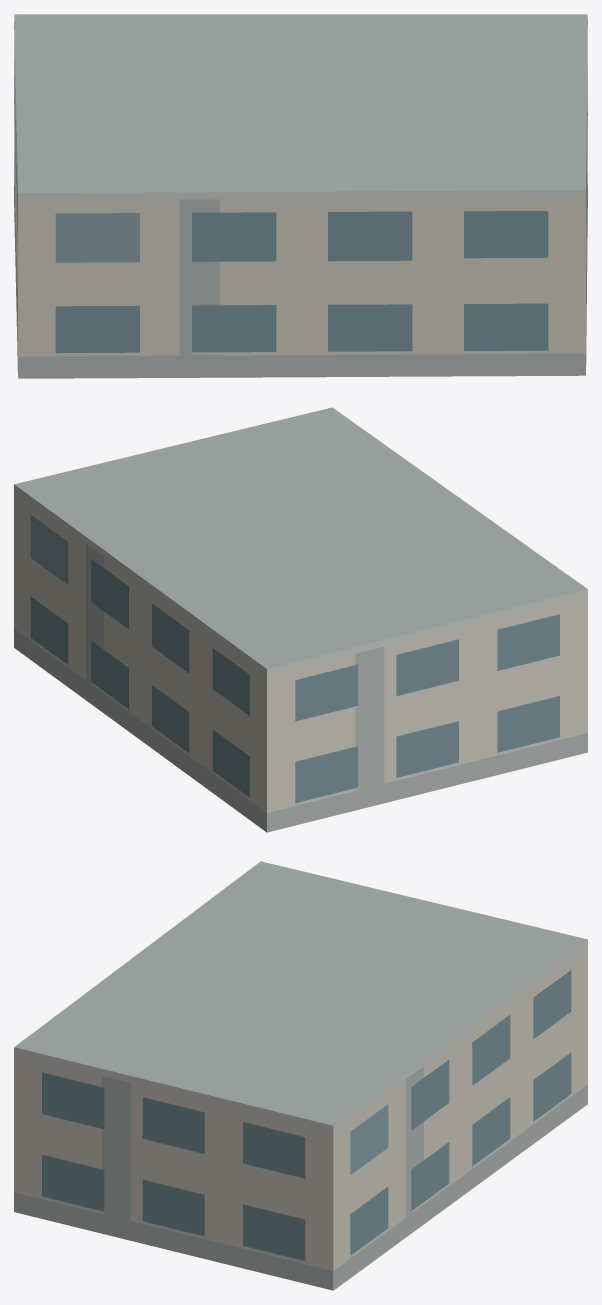
The model's file is survey-upis-32987035.glb.
3 views of the same model, one above another, from view 1: azimuth 30°, elevation 25°; view 2: azimuth 150°, elevation 25°; view 3: azimuth 270°, elevation 25° (orthographic). The views are drawn at different scales.
Visible parts, largest first — view 1: survey-upis-32987035.tmp; view 2: survey-upis-32987035.tmp; view 3: survey-upis-32987035.tmp.
Part boxes in pixels (left/top/right/bottom): survey-upis-32987035.tmp: left=14, top=14, right=587, bottom=378; survey-upis-32987035.tmp: left=14, top=407, right=587, bottom=832; survey-upis-32987035.tmp: left=14, top=861, right=587, bottom=1290.
Bounding box in the file's own units: 21.01 × 6.1 × 19.26.
